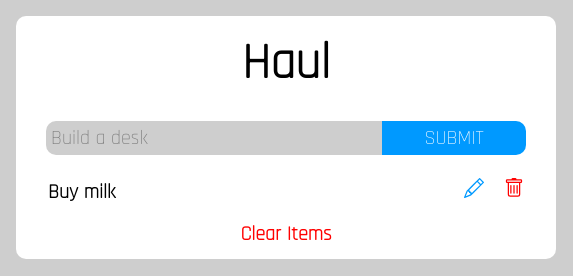
it: HaulPage › behavior › clearing all items › should hide the clear items button after clearing
The width and height of the screenshot is (573, 276).
Step 1. Click the button with aria-label "Clear all items" → click(286, 234), box x1=240 y1=218 x2=332 y2=248
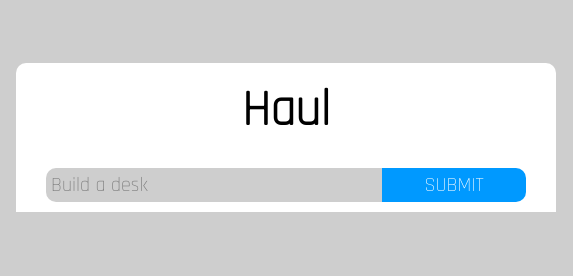
Check: the button "Clear all items" is gone
